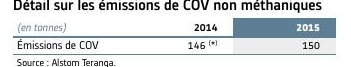table: (0, 0, 351, 67)
